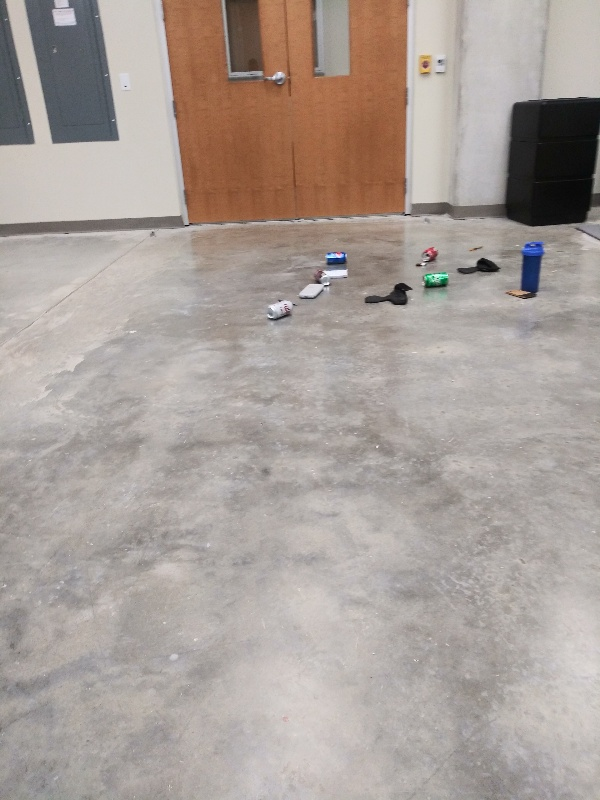can: (266, 299, 295, 320), (420, 272, 451, 288), (323, 250, 349, 265), (420, 245, 439, 262), (315, 268, 332, 286)
